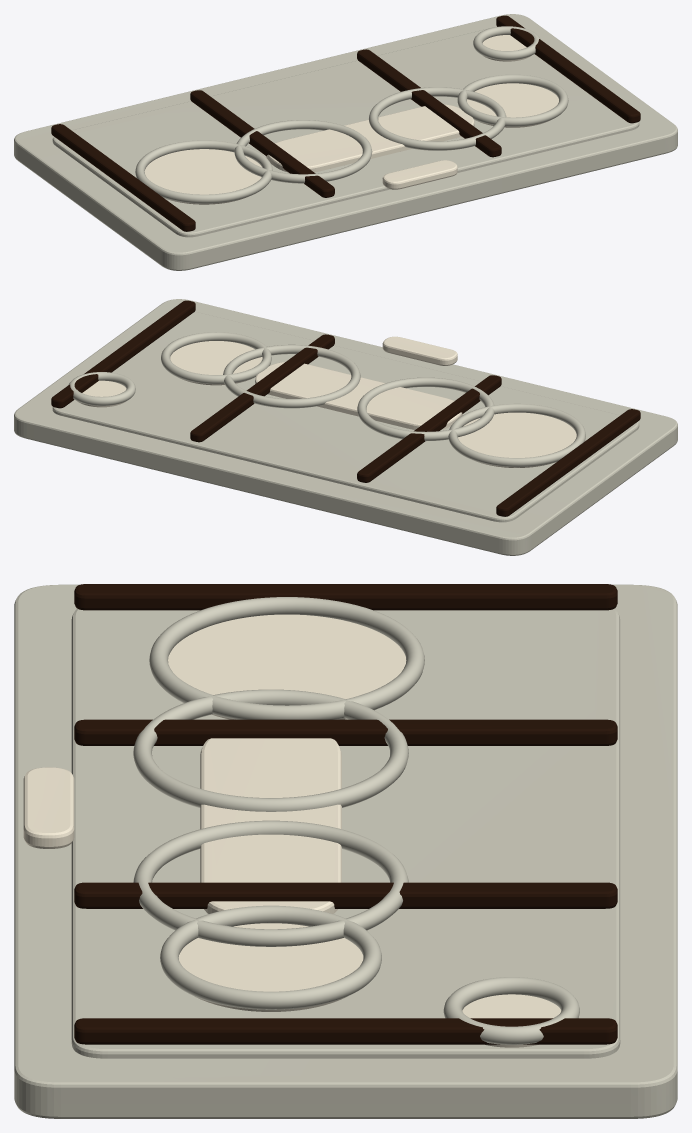
File: orinscare_cosmetic_inner_tray_v6_realistic.web.glb
3 views of the same model, one above another, from view 1: azimuth 30°, elevation 25°; view 2: azimuth 150°, elevation 25°; view 3: azimuth 270°, elevation 25° (orthographic). The views are drawn at different scales.
Visible parts, largest first — view 1: lower_recessed_tray_floor, vacuum_formed_tray_outer_flange, tube_slot_long_rounded_smooth_depressed_floor, round_bottle_pocket_smooth_depressed_floor, round_bottle_pocket_rounded_filleted_rim, support_rib_under_tray_-1.92, tube_slot_long_rounded_rounded_filleted_rim, tube_slot_long_rounded_rounded_filleted_rim_other, support_rib_under_tray_1.92, support_rib_under_tray_-0.72, support_rib_under_tray_0.72, cream_jar_round_pocket_smooth_depressed_floor (+4 smaller); view 2: lower_recessed_tray_floor, vacuum_formed_tray_outer_flange, tube_slot_long_rounded_smooth_depressed_floor, round_bottle_pocket_smooth_depressed_floor, round_bottle_pocket_rounded_filleted_rim, support_rib_under_tray_-1.92, tube_slot_long_rounded_rounded_filleted_rim_other, tube_slot_long_rounded_rounded_filleted_rim, support_rib_under_tray_1.92, support_rib_under_tray_-0.72, support_rib_under_tray_0.72, cream_jar_round_pocket_smooth_depressed_floor (+4 smaller); view 3: lower_recessed_tray_floor, vacuum_formed_tray_outer_flange, tube_slot_long_rounded_smooth_depressed_floor, round_bottle_pocket_smooth_depressed_floor, support_rib_under_tray_1.92, support_rib_under_tray_-1.92, support_rib_under_tray_-0.72, support_rib_under_tray_0.72, round_bottle_pocket_rounded_filleted_rim, tube_slot_long_rounded_rounded_filleted_rim_other, tube_slot_long_rounded_rounded_filleted_rim, cream_jar_round_pocket_rounded_filleted_rim (+4 smaller).
Boxes of the visible parts, box(x1,y1,x2,y2) form: lower_recessed_tray_floor: box(52, 26, 639, 237); vacuum_formed_tray_outer_flange: box(14, 14, 677, 270); tube_slot_long_rounded_smooth_depressed_floor: box(266, 104, 474, 172); round_bottle_pocket_smooth_depressed_floor: box(144, 149, 261, 204); round_bottle_pocket_rounded_filleted_rim: box(135, 140, 272, 203); support_rib_under_tray_-1.92: box(51, 124, 195, 231); tube_slot_long_rounded_rounded_filleted_rim: box(234, 120, 372, 183); tube_slot_long_rounded_rounded_filleted_rim_other: box(369, 87, 506, 150); support_rib_under_tray_1.92: box(496, 15, 640, 123); support_rib_under_tray_-0.72: box(190, 90, 334, 197); support_rib_under_tray_0.72: box(357, 49, 501, 157); cream_jar_round_pocket_smooth_depressed_floor: box(467, 83, 558, 127); lower_recessed_tray_floor: box(52, 311, 639, 522); vacuum_formed_tray_outer_flange: box(14, 299, 677, 555); tube_slot_long_rounded_smooth_depressed_floor: box(255, 362, 462, 429); round_bottle_pocket_smooth_depressed_floor: box(458, 412, 576, 467); round_bottle_pocket_rounded_filleted_rim: box(448, 403, 585, 467); support_rib_under_tray_-1.92: box(496, 409, 640, 516); tube_slot_long_rounded_rounded_filleted_rim_other: box(223, 344, 360, 408); tube_slot_long_rounded_rounded_filleted_rim: box(357, 377, 494, 441); support_rib_under_tray_1.92: box(51, 300, 195, 408); support_rib_under_tray_-0.72: box(357, 375, 501, 482); support_rib_under_tray_0.72: box(190, 334, 334, 442); cream_jar_round_pocket_smooth_depressed_floor: box(170, 341, 262, 385); lower_recessed_tray_floor: box(71, 608, 620, 1058); vacuum_formed_tray_outer_flange: box(14, 584, 677, 1118); tube_slot_long_rounded_smooth_depressed_floor: box(200, 738, 341, 913); round_bottle_pocket_smooth_depressed_floor: box(168, 614, 406, 719); support_rib_under_tray_1.92: box(74, 1018, 617, 1044); support_rib_under_tray_-1.92: box(74, 584, 617, 610); support_rib_under_tray_-0.72: box(74, 719, 617, 745); support_rib_under_tray_0.72: box(74, 882, 617, 908); round_bottle_pocket_rounded_filleted_rim: box(149, 597, 424, 719); tube_slot_long_rounded_rounded_filleted_rim_other: box(133, 820, 408, 946); tube_slot_long_rounded_rounded_filleted_rim: box(133, 689, 408, 811); cream_jar_round_pocket_rounded_filleted_rim: box(160, 905, 381, 1009).
Bounding box in the file's own units: 4.43 × 0.2874 × 2.48.
